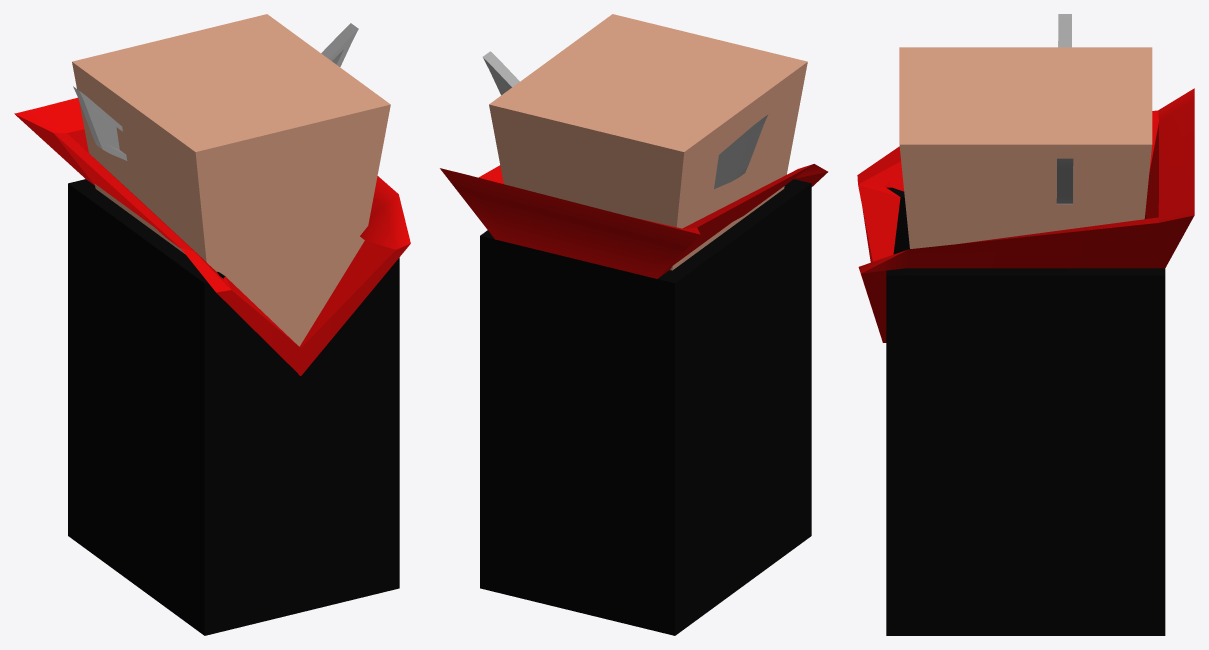
Rendered from char10.fbx.
The picture shows the model from 3 angles, left to right: view 1: azimuth 30°, elevation 25°; view 2: azimuth 150°, elevation 25°; view 3: azimuth 270°, elevation 25°; orthographic projection. The views are drawn at different scales.
Parts seen in each view (by area): view 1: polySurface18; view 2: polySurface18; view 3: polySurface18.
Boxes of the visible parts, bbox=[...] form: polySurface18: bbox=[14, 14, 410, 635]; polySurface18: bbox=[440, 14, 827, 635]; polySurface18: bbox=[857, 14, 1194, 635].
Bounding box in the file's own units: 1.84 × 3.11 × 1.89.
